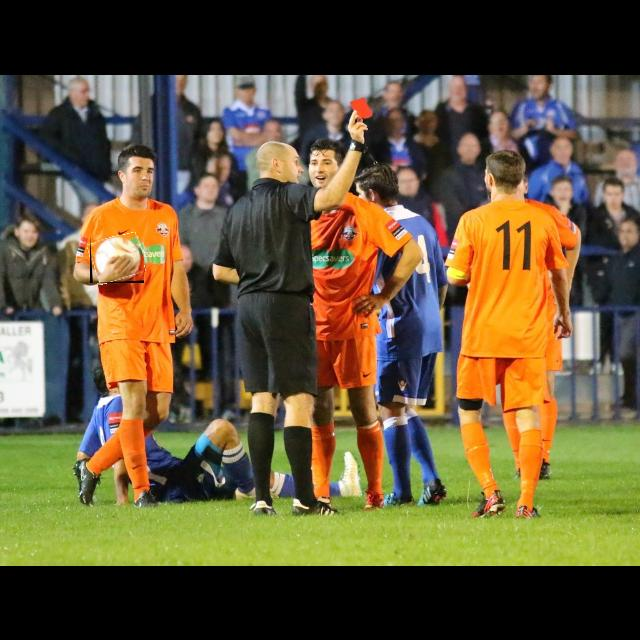Football: (90, 235, 144, 283)
